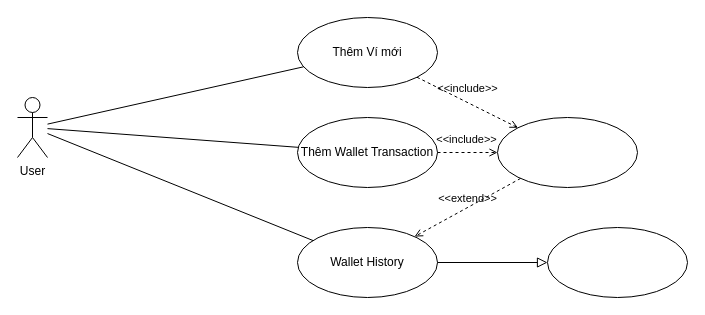
The diagram is 705 pixels wide and 315 high, and some of its shapes have lost their labels. The box of each missing label's shape, as (x1, y1, x2, y2) in pixels:
Biểu đồ và thống kê: (546, 226, 688, 298)
Cập nhật Wallet History: (496, 116, 638, 188)
